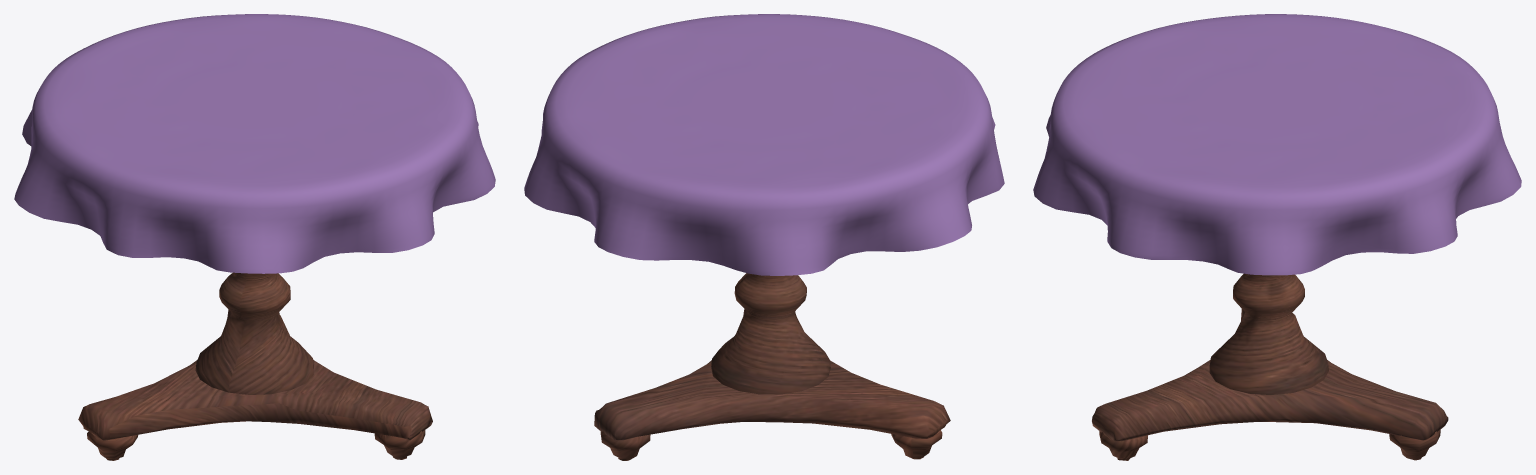
The model's file is Table (1).fbx.
3 views of the same model, side by side, from view 1: azimuth 30°, elevation 25°; view 2: azimuth 150°, elevation 25°; view 3: azimuth 270°, elevation 25° (orthographic).
Visible parts, largest first — view 1: TableCloth, Table; view 2: TableCloth, Table; view 3: TableCloth, Table.
Boxes of the visible parts, x1,y1,x2,y2 form: TableCloth: (14, 14, 495, 273); Table: (78, 272, 432, 460); TableCloth: (524, 14, 1004, 275); Table: (594, 273, 950, 460); TableCloth: (1033, 14, 1521, 275); Table: (1092, 273, 1448, 460).
Bounding box in the file's own units: 568 × 399 × 551.
